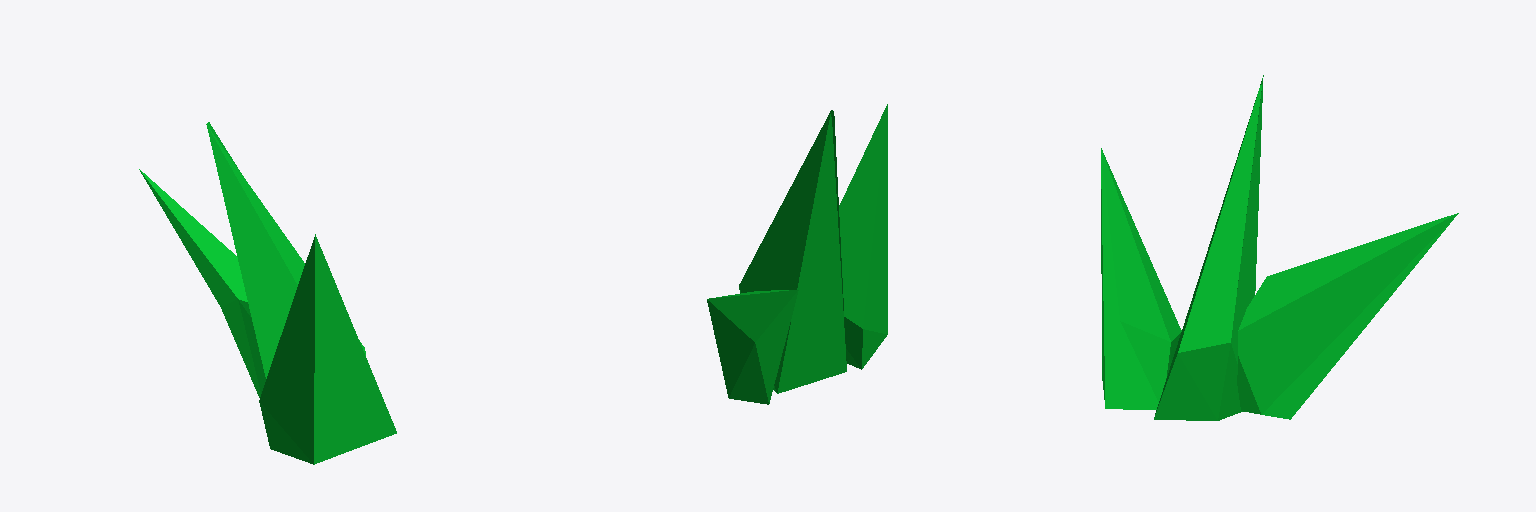
3 renders of one model, left to right at view 1: azimuth 30°, elevation 25°; view 2: azimuth 150°, elevation 25°; view 3: azimuth 270°, elevation 25°, orthographic.
Parts seen in each view (by area): view 1: Cube; view 2: Cube; view 3: Cube.
Part boxes in pixels (x1,y1,x2,y2): Cube: (139,122,396,464); Cube: (707,104,887,404); Cube: (1101,75,1458,420).
Bounding box in the file's own units: 2.75 × 6.99 × 7.38.
1 materials, 1 textured.